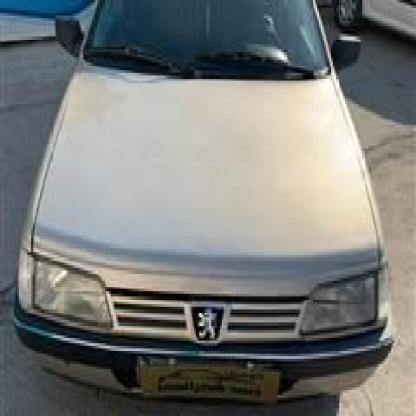Car: (10, 0, 399, 416), (329, 0, 416, 47)
